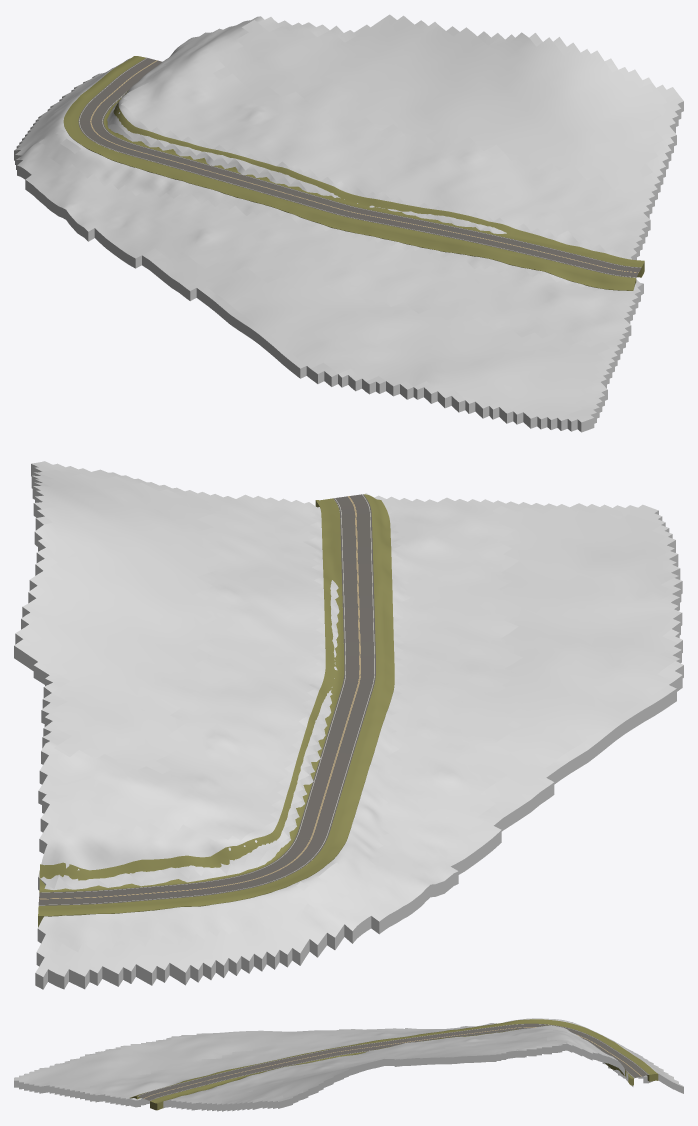
Rendered from conz_64.glb.
The picture shows the model from 3 angles, top to bottom: view 1: azimuth 30°, elevation 25°; view 2: azimuth 150°, elevation 25°; view 3: azimuth 270°, elevation 25°; orthographic projection. The views are drawn at different scales.
Parts seen in each view (by area): view 1: terrain64, road64, verge64L, verge64R, paint_white64, paint_yellow64; view 2: terrain64, road64, verge64L, verge64R, paint_white64, paint_yellow64; view 3: terrain64, road64, verge64L, verge64R, paint_yellow64, paint_white64.
Boxes of the visible parts, <box> form: terrain64: <box>14,14,683,432</box>; road64: <box>78,57,641,277</box>; verge64L: <box>63,56,636,290</box>; verge64R: <box>103,90,644,277</box>; paint_white64: <box>79,58,640,277</box>; paint_yellow64: <box>90,60,638,272</box>; terrain64: <box>14,461,683,989</box>; road64: <box>38,494,375,905</box>; verge64L: <box>38,494,394,927</box>; verge64R: <box>39,498,344,892</box>; paint_white64: <box>39,494,374,905</box>; paint_yellow64: <box>39,496,360,899</box>; terrain64: <box>14,1018,683,1111</box>; road64: <box>137,1023,648,1100</box>; verge64L: <box>130,1019,658,1099</box>; verge64R: <box>150,1025,633,1110</box>; paint_yellow64: <box>144,1027,641,1098</box>; paint_white64: <box>138,1024,648,1100</box>.
Bounding box in the file's own units: 144 × 47.87 × 264.
